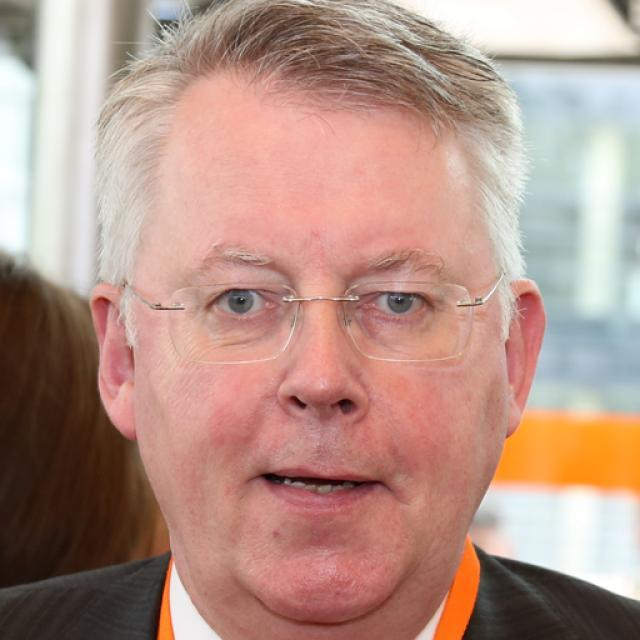surprise: (132, 64, 511, 625)
